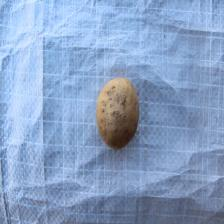Diseased-fungal potato: (95, 75, 139, 151)
